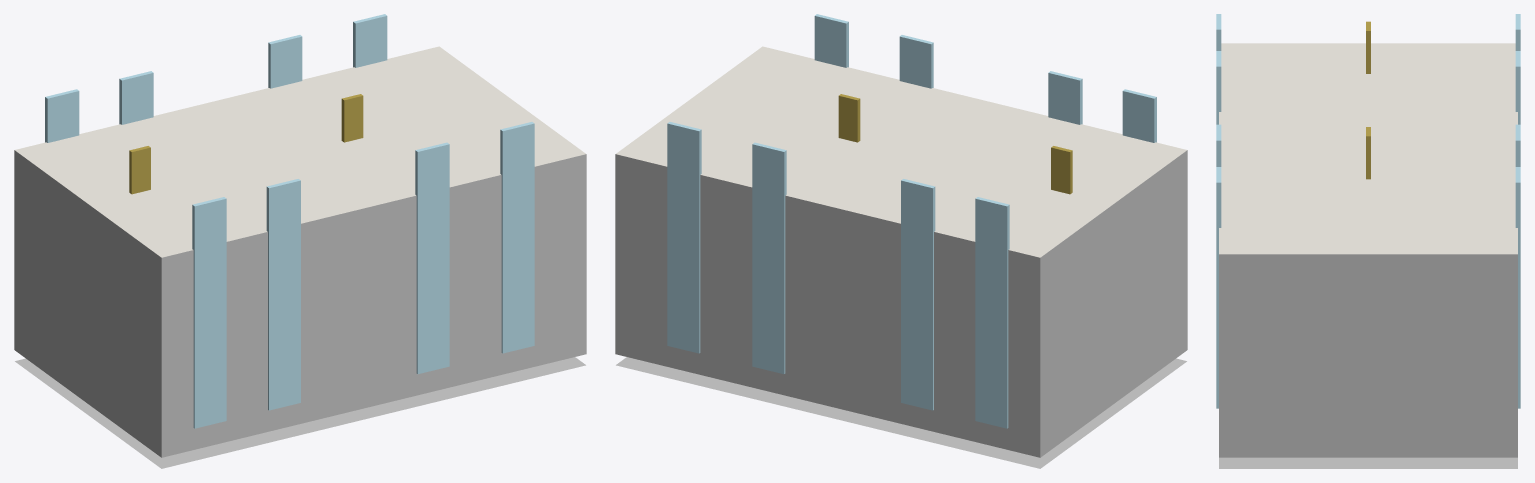
The picture shows the model from 3 angles, left to right: view 1: azimuth 30°, elevation 25°; view 2: azimuth 150°, elevation 25°; view 3: azimuth 270°, elevation 25°; orthographic projection.
Parts seen in each view (by area): view 1: 75a27ea255da, 6c053a36f4b8, e64c852ab494, ec92aa74aefd, 386680a6e5e4, 6a7e607b2e82, c75465796951, 7a122f96a6df, e7a5bd9e302c, 49c54a9e35fd, ff5d64fe433b, dc9315e703e8 (+25 smaller); view 2: 75a27ea255da, 6c053a36f4b8, e64c852ab494, 5ba012baafc3, 72792af881cd, 87b0707ea640, 19aa241c14ff, 808087e5c1db, 9ebafa949465, e6e33ea54d9b, 0a80160b7e93, ecf5825a99ab (+25 smaller); view 3: 6c053a36f4b8, 75a27ea255da, e64c852ab494.
Part boxes in pixels (x1=…): 75a27ea255da: x1=14, y1=150, x2=586, y2=457; 6c053a36f4b8: x1=15, y1=46, x2=585, y2=257; e64c852ab494: x1=15, y1=357, x2=585, y2=468; ec92aa74aefd: x1=501, y1=257, x2=534, y2=326; 386680a6e5e4: x1=416, y1=278, x2=449, y2=347; 6a7e607b2e82: x1=268, y1=340, x2=300, y2=410; c75465796951: x1=500, y1=150, x2=534, y2=219; 7a122f96a6df: x1=193, y1=332, x2=226, y2=401; e7a5bd9e302c: x1=192, y1=225, x2=226, y2=294; 49c54a9e35fd: x1=193, y1=359, x2=226, y2=428; ff5d64fe433b: x1=266, y1=207, x2=300, y2=276; dc9315e703e8: x1=268, y1=274, x2=300, y2=342; 75a27ea255da: x1=615, y1=150, x2=1187, y2=457; 6c053a36f4b8: x1=616, y1=46, x2=1186, y2=257; e64c852ab494: x1=616, y1=357, x2=1186, y2=468; 5ba012baafc3: x1=667, y1=257, x2=700, y2=326; 72792af881cd: x1=975, y1=359, x2=1008, y2=428; 87b0707ea640: x1=901, y1=340, x2=933, y2=410; 19aa241c14ff: x1=975, y1=292, x2=1008, y2=361; 808087e5c1db: x1=752, y1=237, x2=785, y2=307; 9ebafa949465: x1=667, y1=150, x2=701, y2=219; e6e33ea54d9b: x1=752, y1=305, x2=785, y2=374; 0a80160b7e93: x1=752, y1=277, x2=785, y2=346; ecf5825a99ab: x1=901, y1=247, x2=933, y2=316; 6c053a36f4b8: x1=1219, y1=43, x2=1517, y2=254; 75a27ea255da: x1=1219, y1=254, x2=1517, y2=457; e64c852ab494: x1=1219, y1=457, x2=1517, y2=468.
Bounding box in the file's own units: 20 × 11.5 × 12.2.
